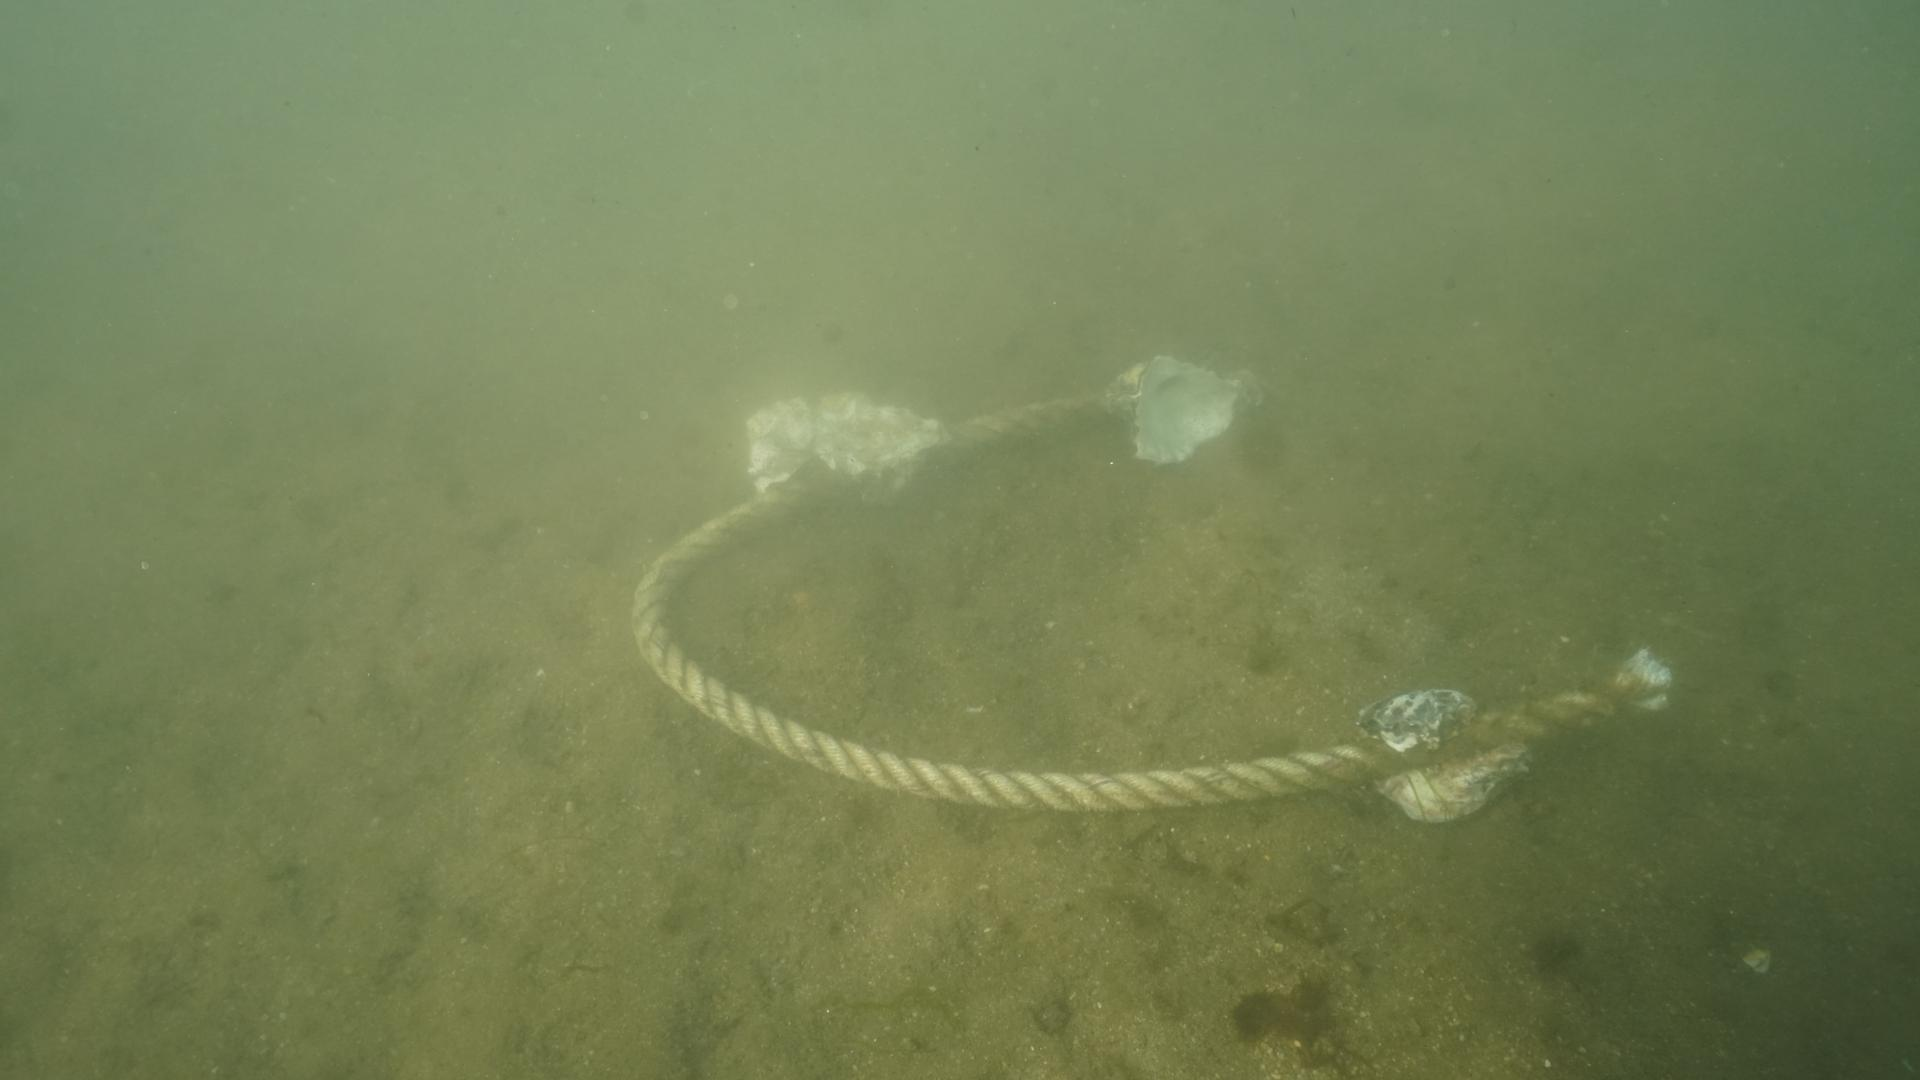rope: (625, 367, 1663, 815)
